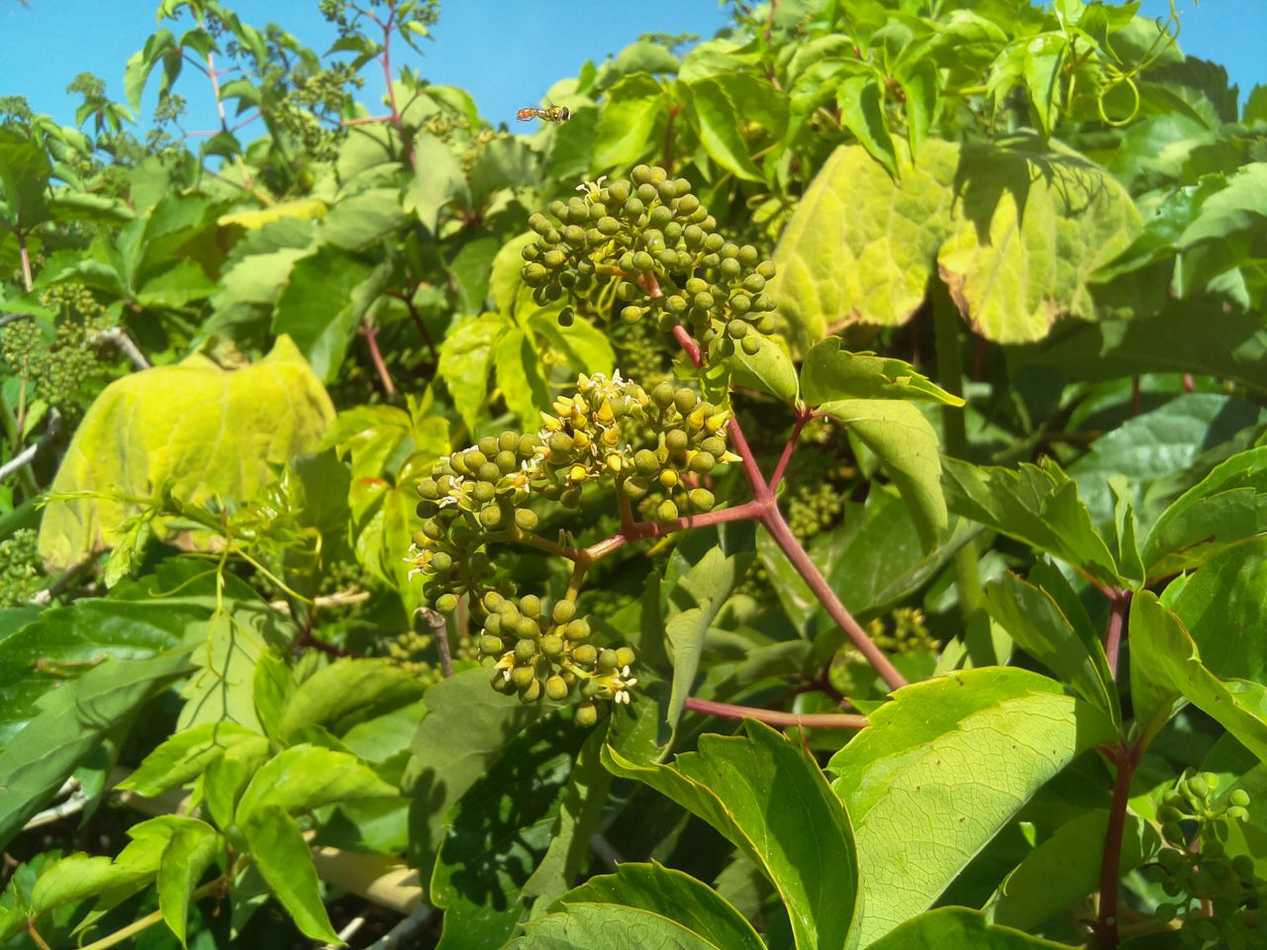Hoverfly: (503, 86, 579, 137)
